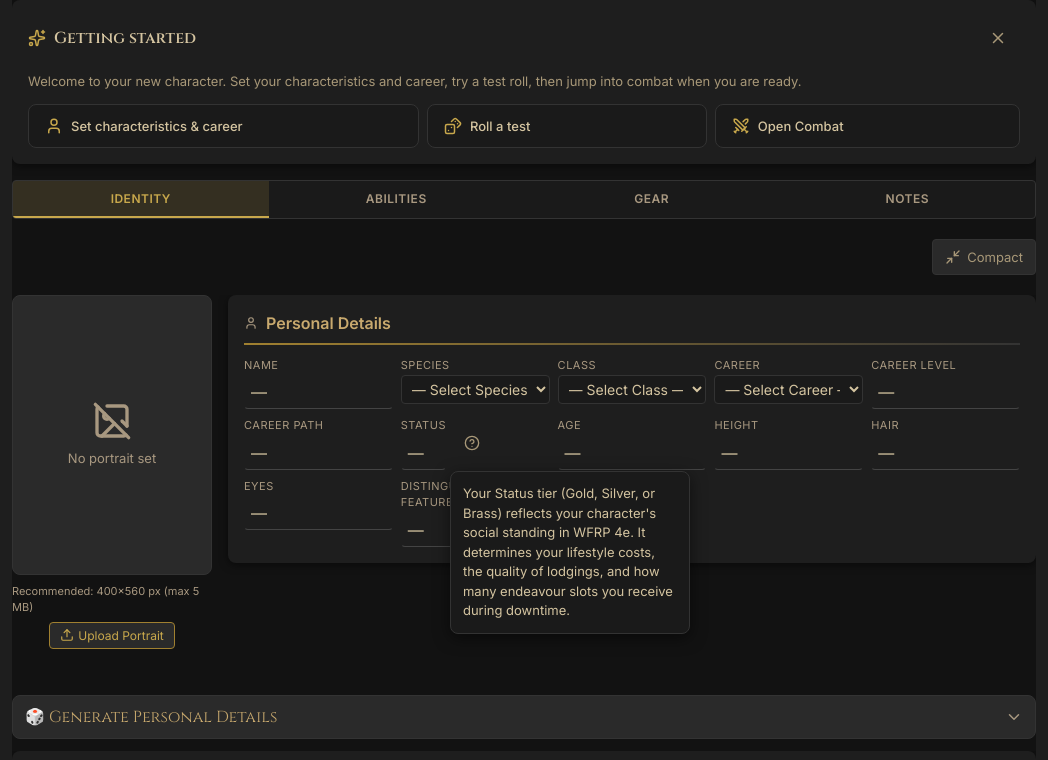
Test case: CalculatedTooltips integration › Keyboard Navigation (Req 6.4) › Space key activates skill tooltip
# Switch to Abilities tab
Click the tab "Abilities" at [396, 199], box [268, 180, 524, 218]
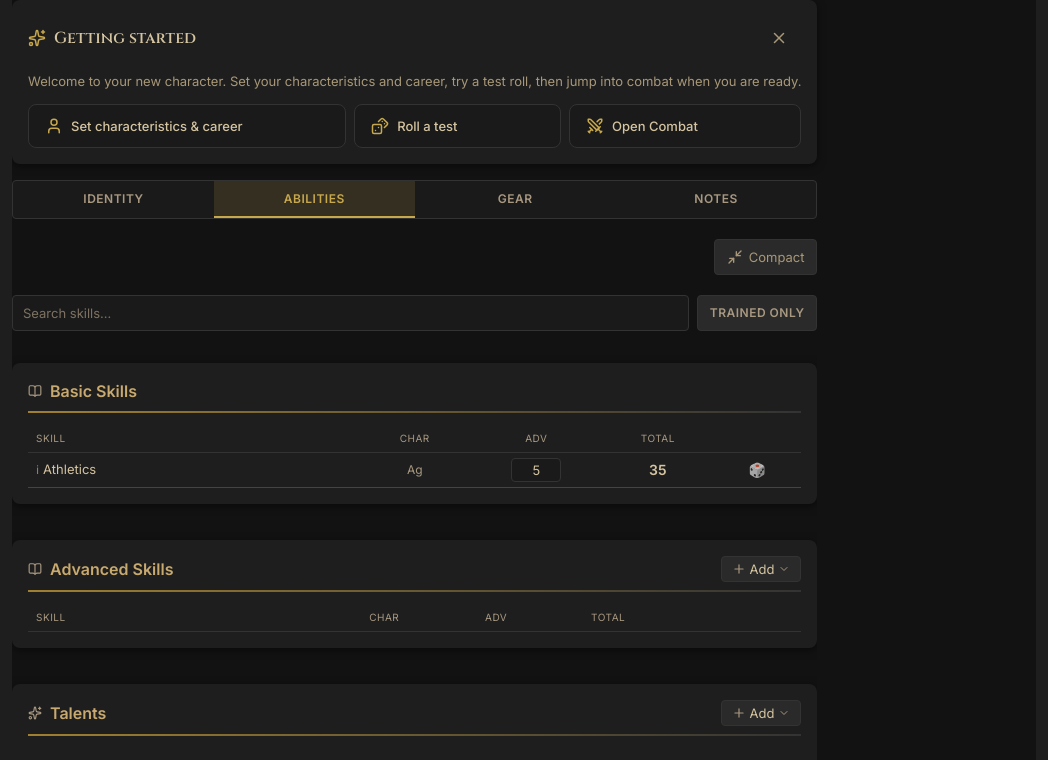
# Press Space to open
Press Space in the button named "Skill total breakdown for Athletics", box [649, 461, 667, 478]
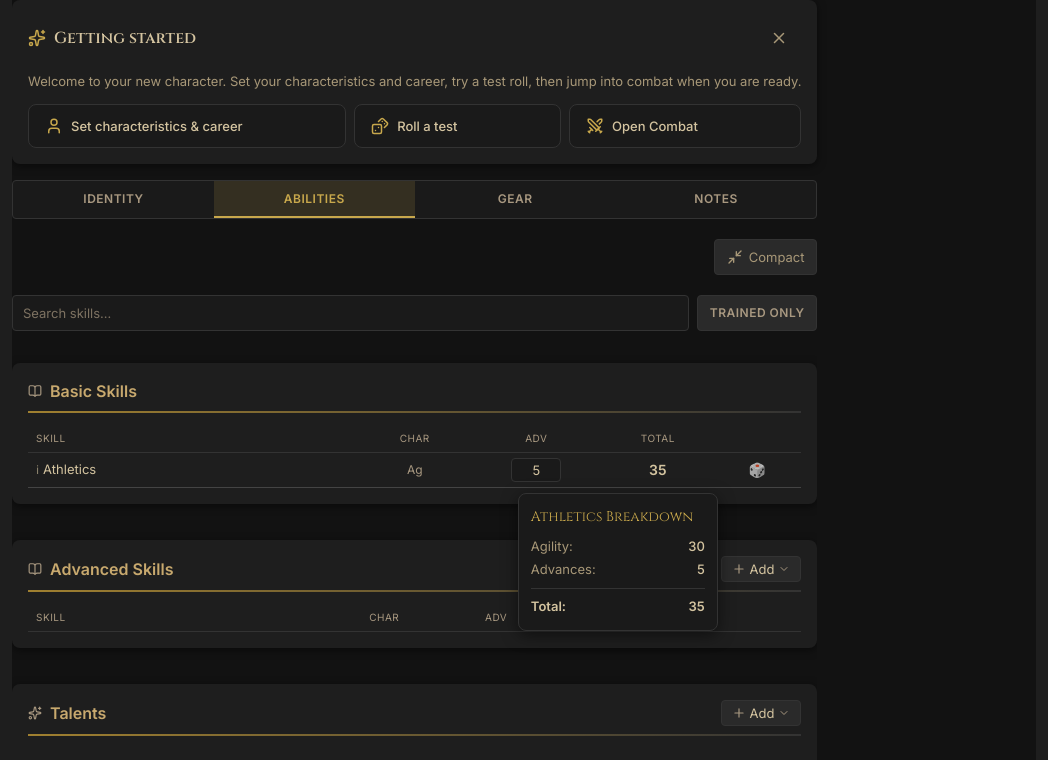
Result: the tooltip with id "tooltip-breakdown-skill-0" is shown at [518, 492, 718, 631]
